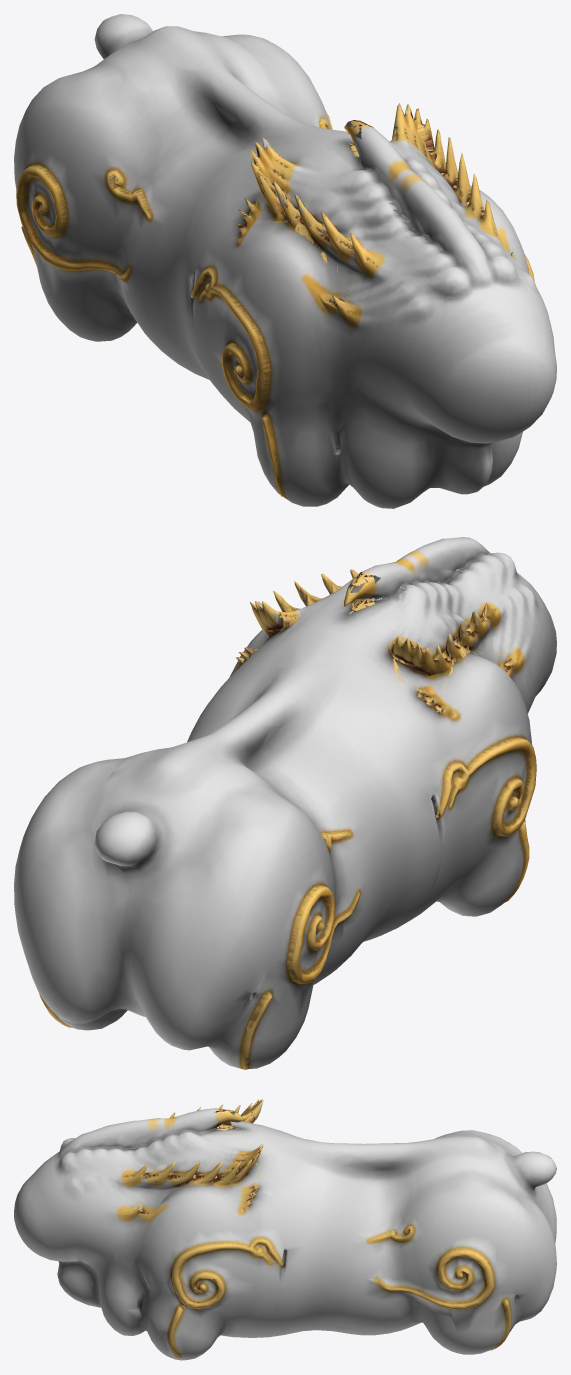
File: trau_body.glb
3 views of the same model, one above another, from view 1: azimuth 30°, elevation 25°; view 2: azimuth 150°, elevation 25°; view 3: azimuth 270°, elevation 25° (orthographic). The views are drawn at different scales.
Parts seen in each view (by area): view 1: trau_body; view 2: trau_body; view 3: trau_body.
Part boxes in pixels (x1=…): trau_body: x1=14, y1=14, x2=556, y2=508; trau_body: x1=14, y1=537, x2=556, y2=1069; trau_body: x1=14, y1=1098, x2=556, y2=1360.
Bounding box in the file's own units: 0.8969 × 1.01 × 2.24.
Materials: 1 (1 with a texture image).
